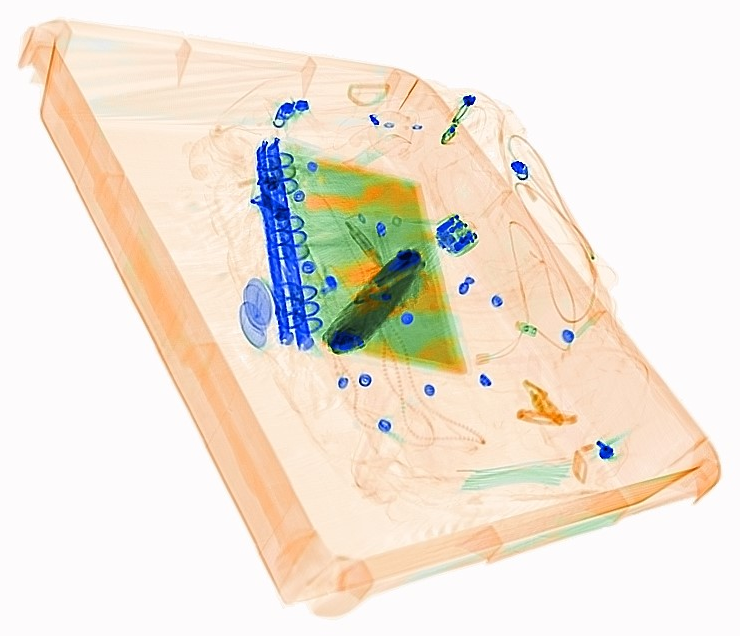FeLighter: (315, 224, 452, 360)
